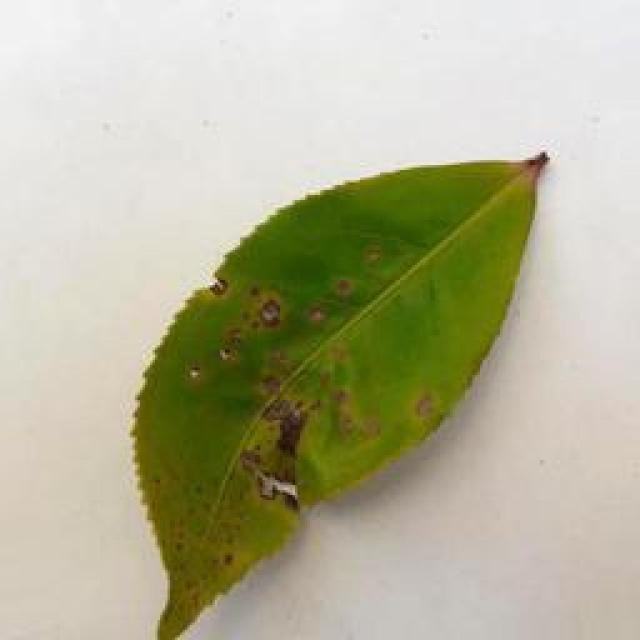Helopeltis: (126, 147, 560, 640)
